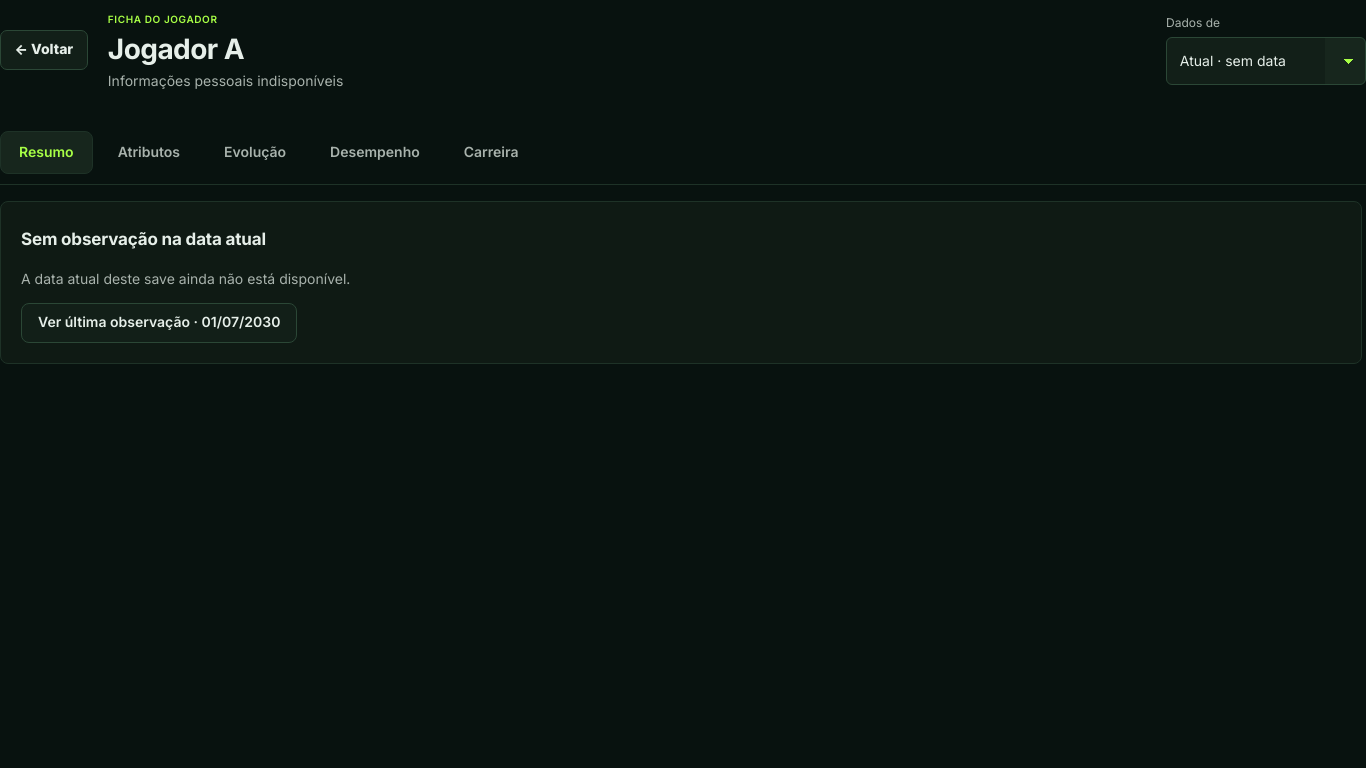
Test: PlayerPage save isolation › expõe comparação entre quaisquer checkpoints quando há histórico
Expected: the heading "Jogador A" is shown, [108, 32, 244, 66]
Click the button "Evolução".
click(255, 152)  # box [205, 131, 305, 174]
(page scrolled)
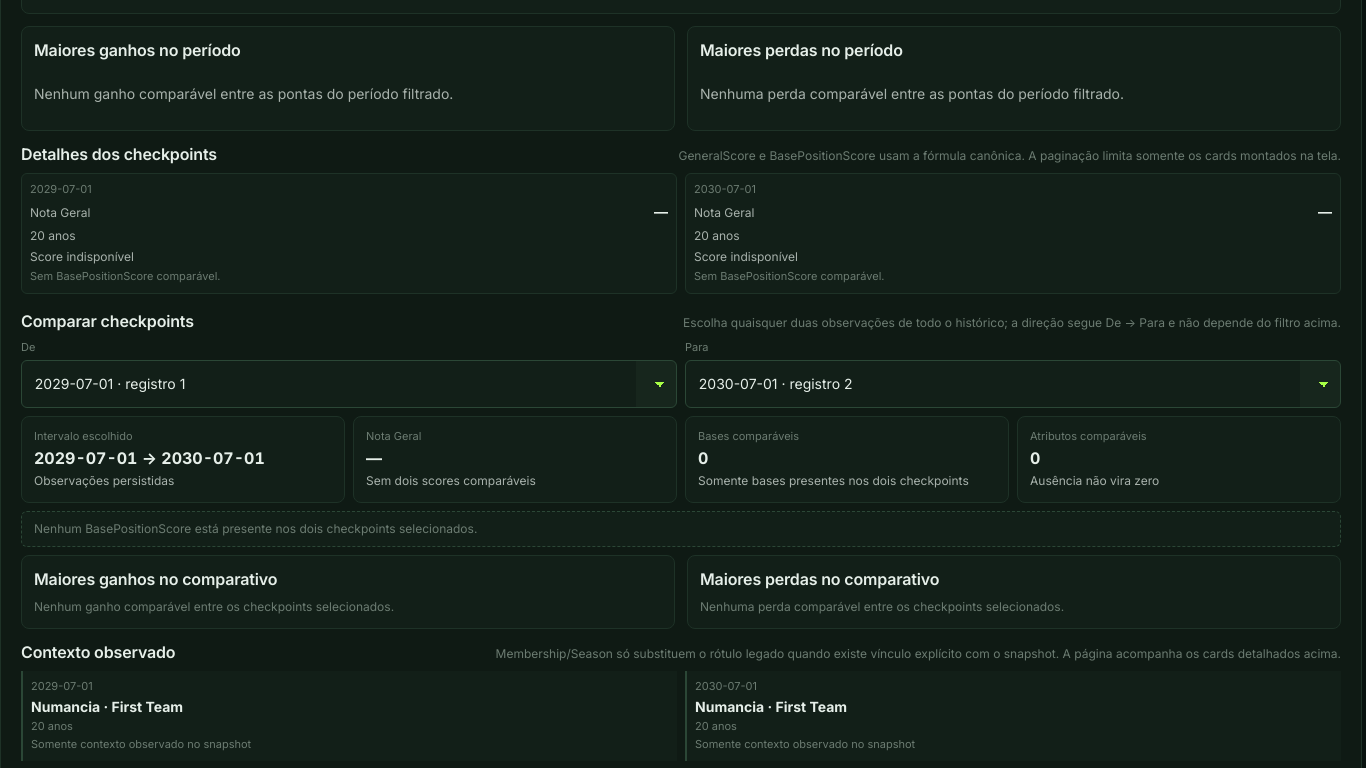
Expected: the heading "Comparar checkpoints" is shown, [21, 310, 194, 332]
Expected: the dropdown named "Checkpoint inicial" is shown, [21, 360, 677, 408]
Expected: the dropdown named "Checkpoint final" is shown, [685, 360, 1341, 408]
